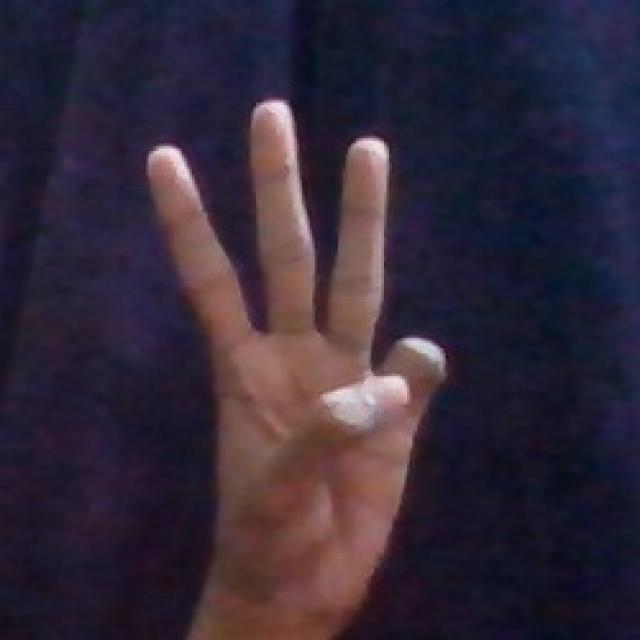Numeric-6: (118, 87, 446, 597)
